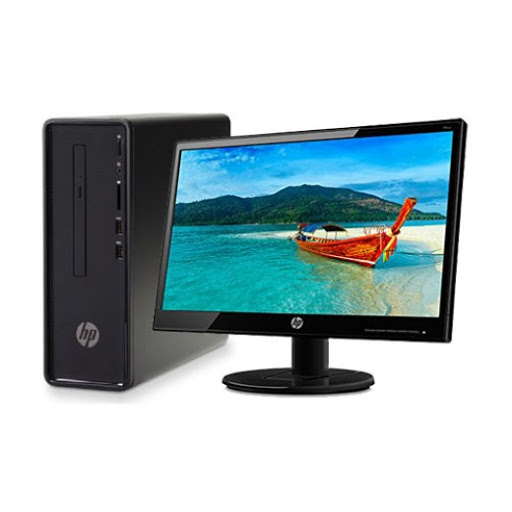hp-monitor-19ka: (150, 118, 471, 399)
